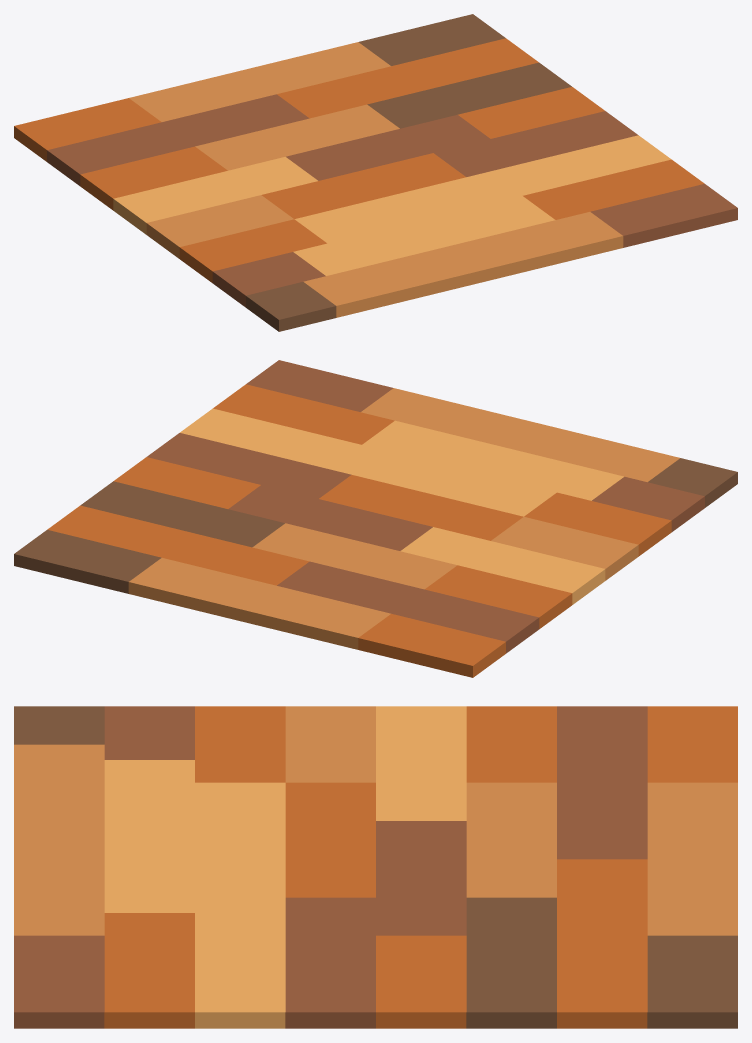
File: floor.obj
3 views of the same model, one above another, from view 1: azimuth 30°, elevation 25°; view 2: azimuth 150°, elevation 25°; view 3: azimuth 270°, elevation 25° (orthographic). The views are drawn at different scales.
Bounding box in the file's own units: 4 × 0.1 × 4.
Materials: 1 (1 with a texture image).
